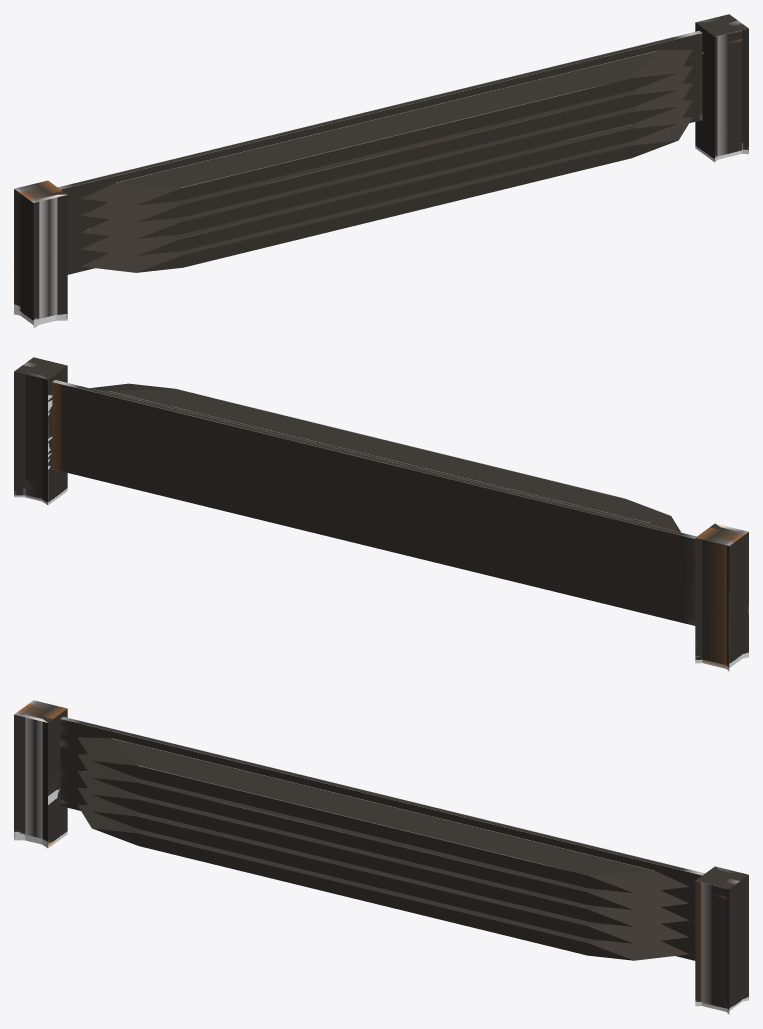
The model's file is afa.fbx.
3 views of the same model, one above another, from view 1: azimuth 30°, elevation 25°; view 2: azimuth 150°, elevation 25°; view 3: azimuth 330°, elevation 25° (orthographic).
Visible parts, largest first — view 1: Cube.001; view 2: Cube.001; view 3: Cube.001.
Part boxes in pixels (x1,y1,x2,y2): Cube.001: (14,14,748,328); Cube.001: (14,357,748,671); Cube.001: (14,700,748,1014).
Size of the model in its own units: 152 by 25.65 by 11.82.
